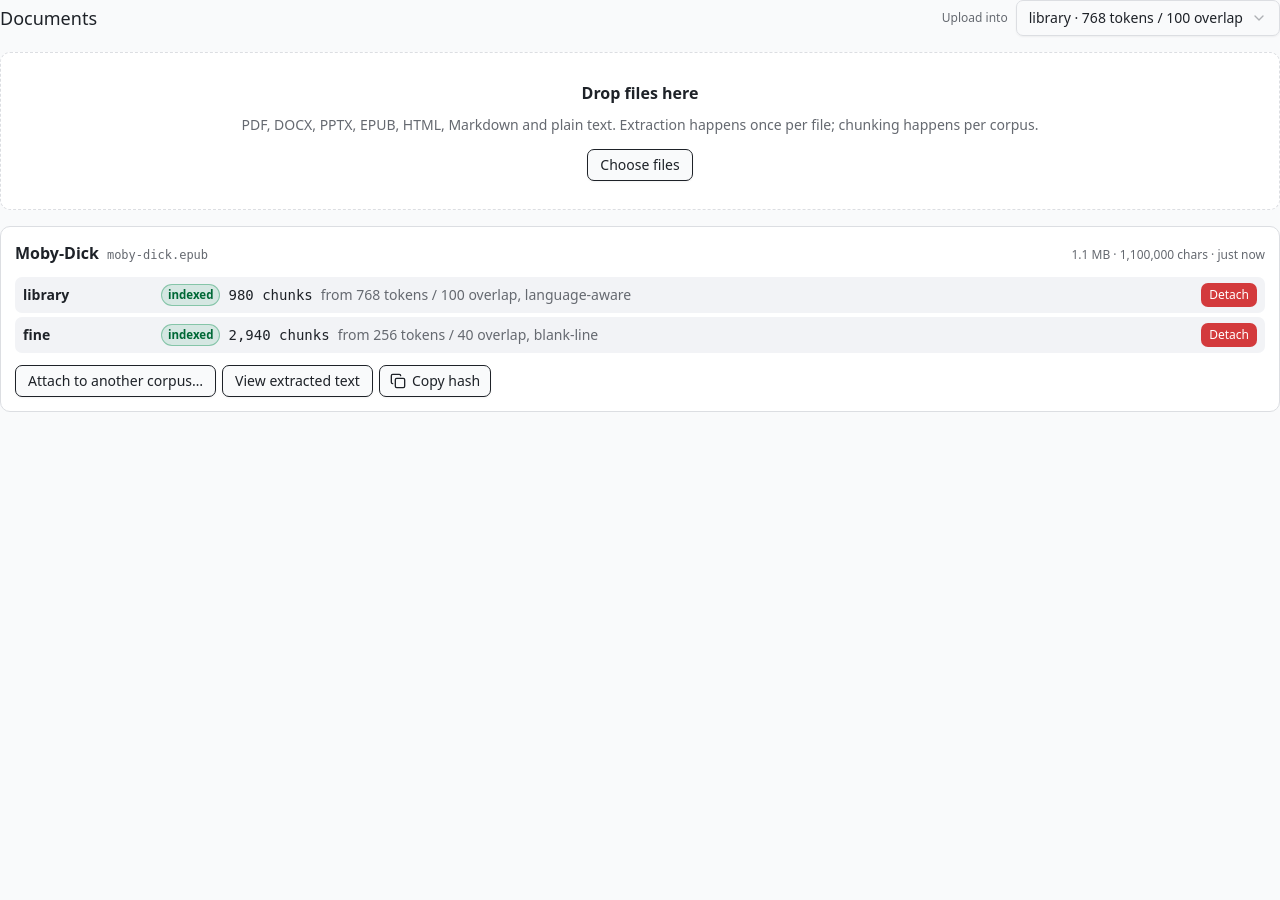
Test: the document library › does not offer to attach a document to a corpus that already has it
The image size is (1280, 900).
Click the button "Attach to another corpus…": x=116, y=381 [15, 365, 216, 397]
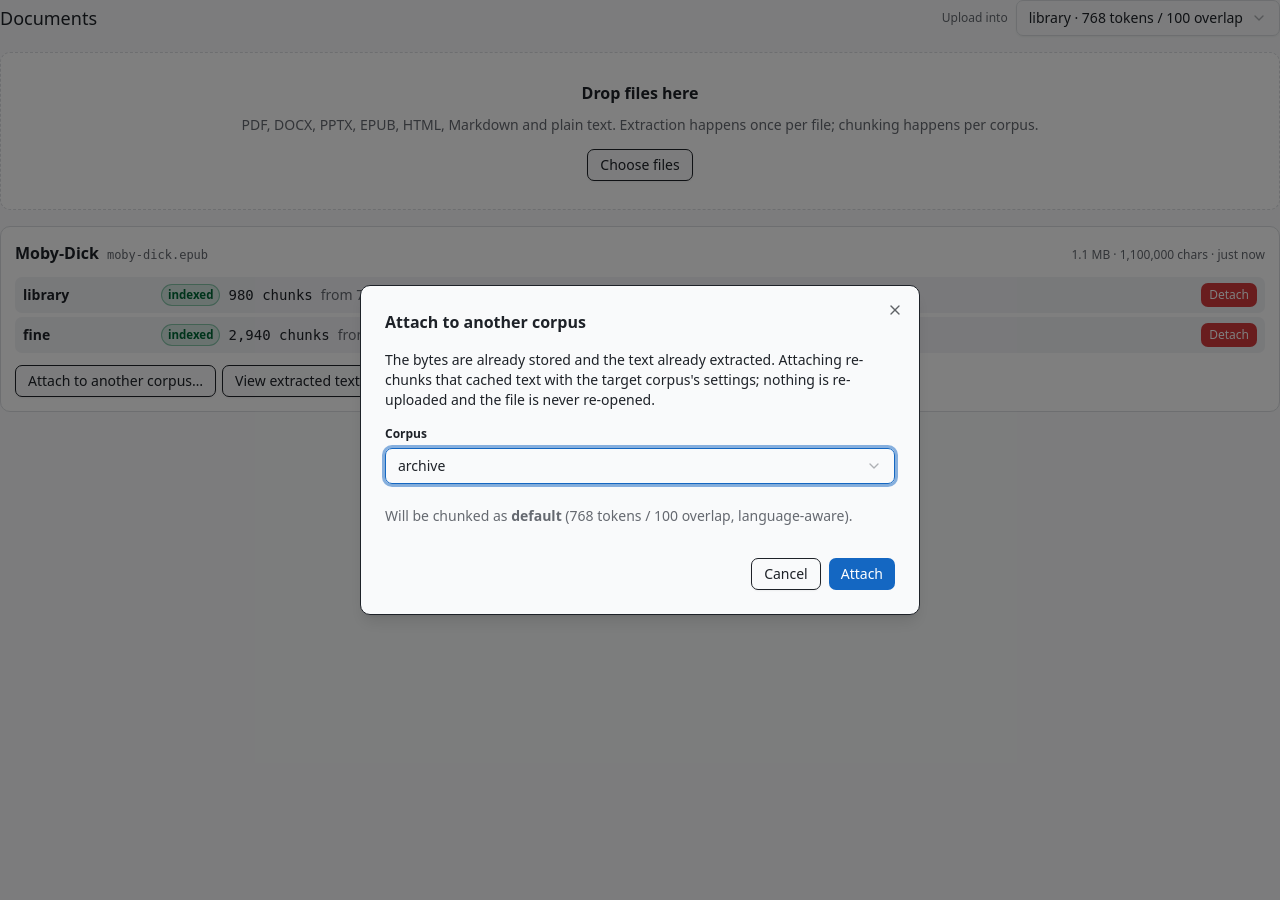
Click the dropdown named "Corpus": x=422, y=466 [385, 448, 895, 484]
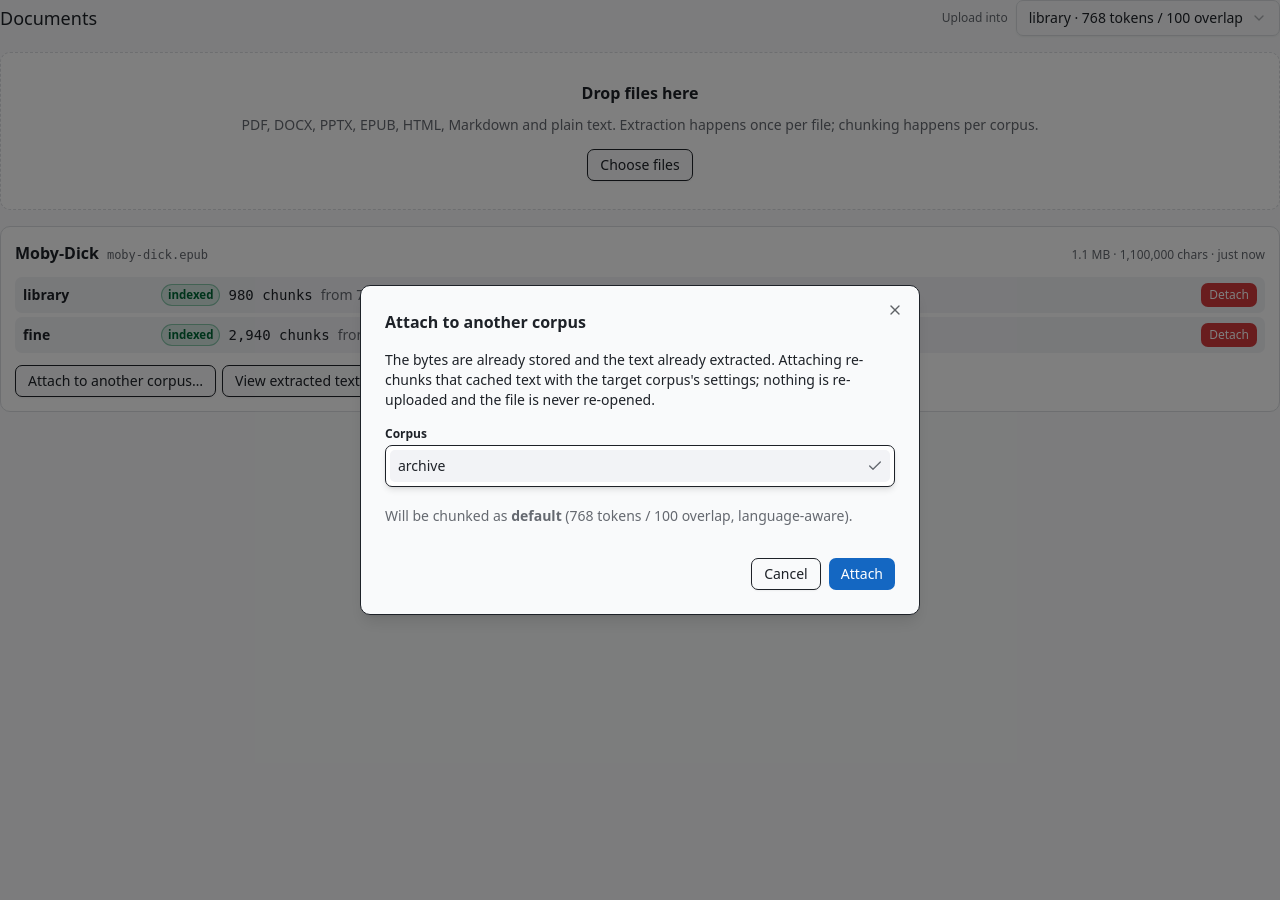
Now the options read "archive", in this order, box [390, 450, 890, 482]
